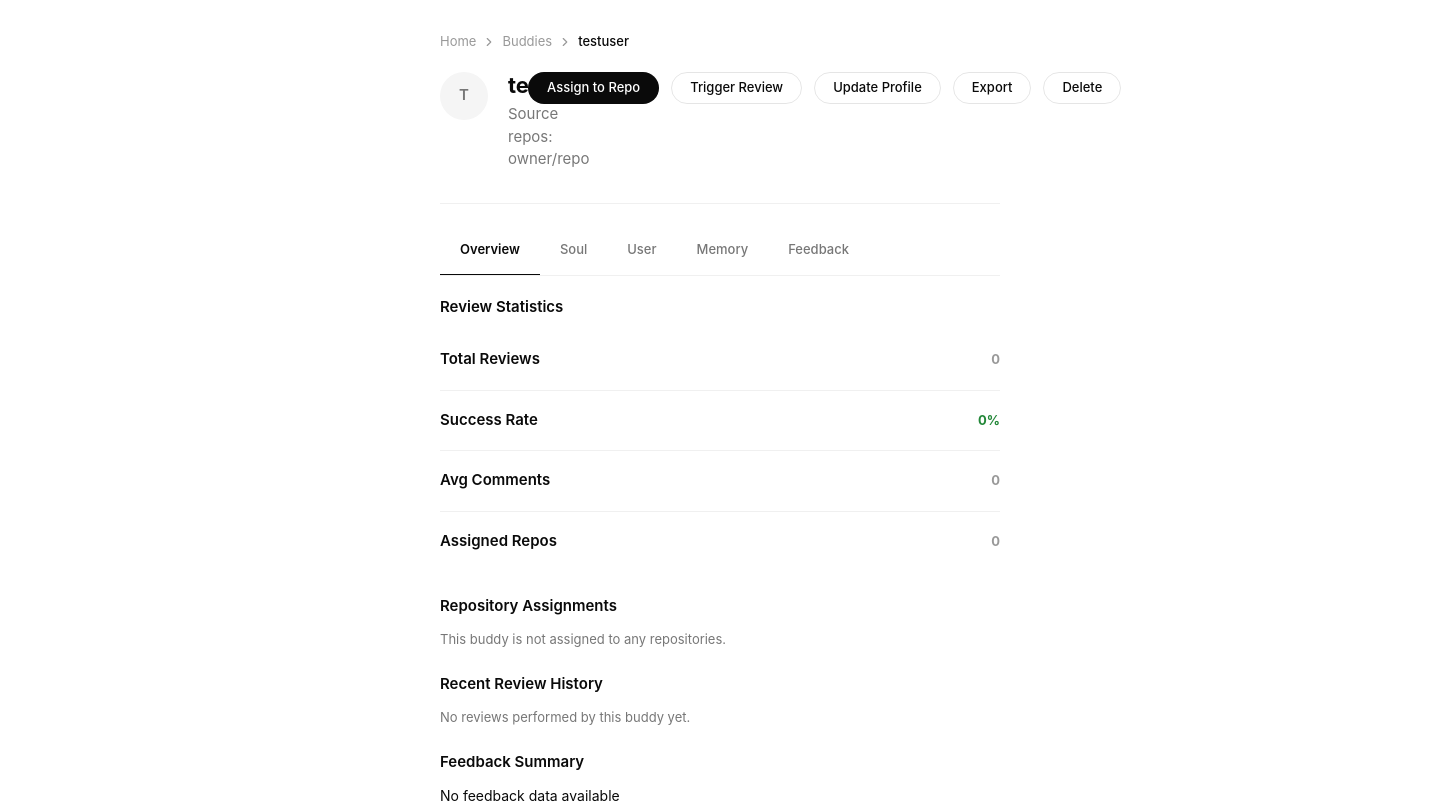
Test: BuddyDetailPage › opens update dialog when Update Profile clicked
The image size is (1440, 810).
Click the button "Update Profile": (878,88) [814,72,941,104]
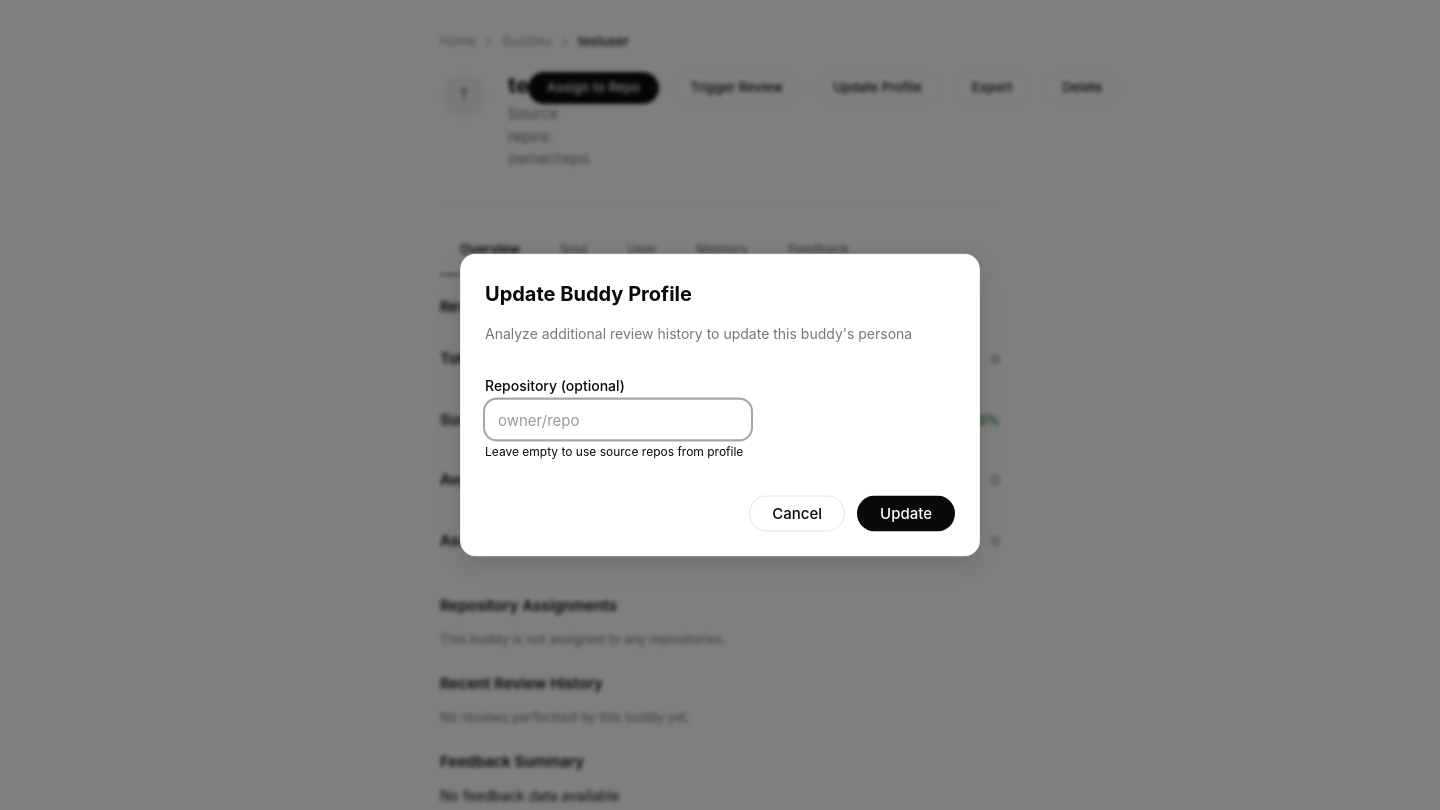
expect the text "Update Buddy Profile" is shown: met, box [485,282,692,306]
expect the text "Analyze additional review history to update this buddy's persona" is shown: met, box [485,324,912,342]
